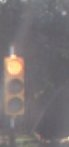Red: (3, 53, 24, 118)
